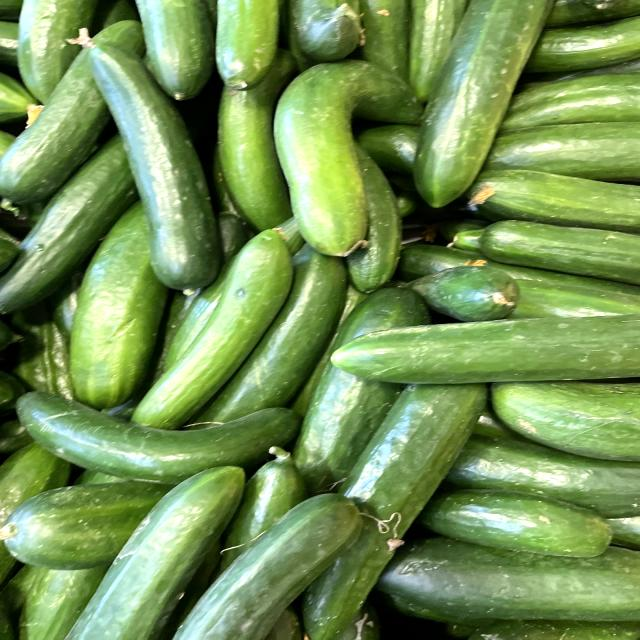cucumber: (61, 21, 240, 304), (396, 0, 576, 221), (4, 379, 317, 491), (324, 306, 640, 399)
